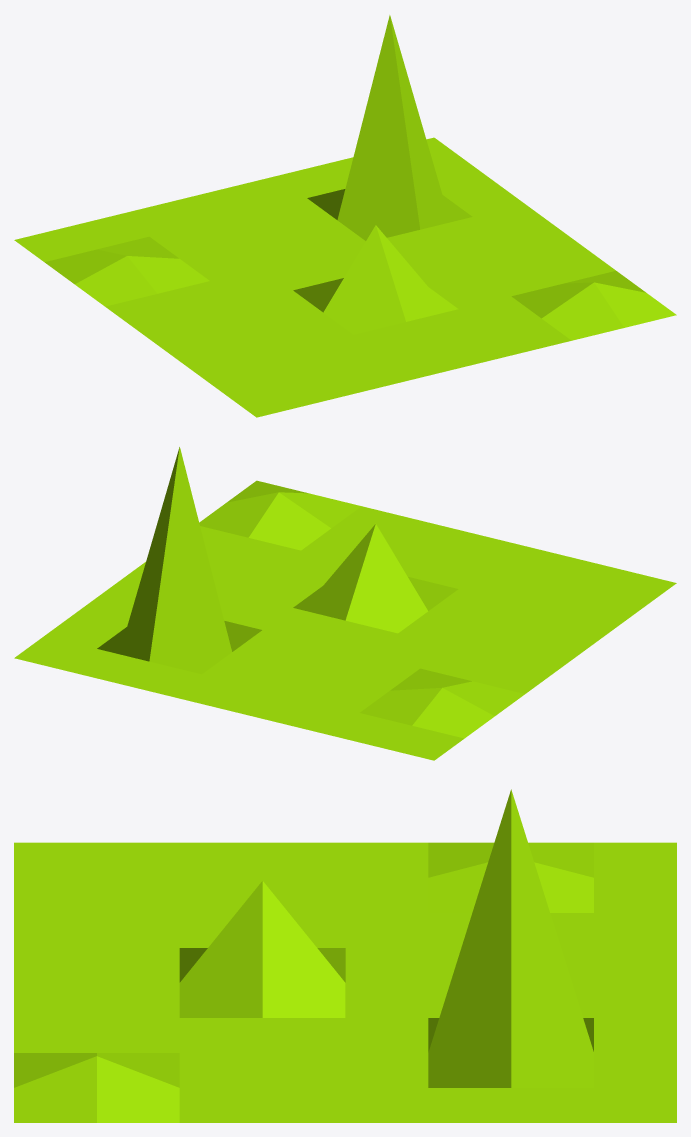
File: testmap.glb
3 renders of one model, top to bottom at view 1: azimuth 30°, elevation 25°; view 2: azimuth 150°, elevation 25°; view 3: azimuth 270°, elevation 25°, orthographic. The views are drawn at different scales.
Parts seen in each view (by area): view 1: Plane; view 2: Plane; view 3: Plane.
Part boxes in pixels (x1,y1,x2,y2): Plane: [14, 15, 676, 417]; Plane: [14, 447, 676, 760]; Plane: [14, 789, 676, 1122].
Size of the model in its own units: 67.3 by 29.56 by 67.3.
